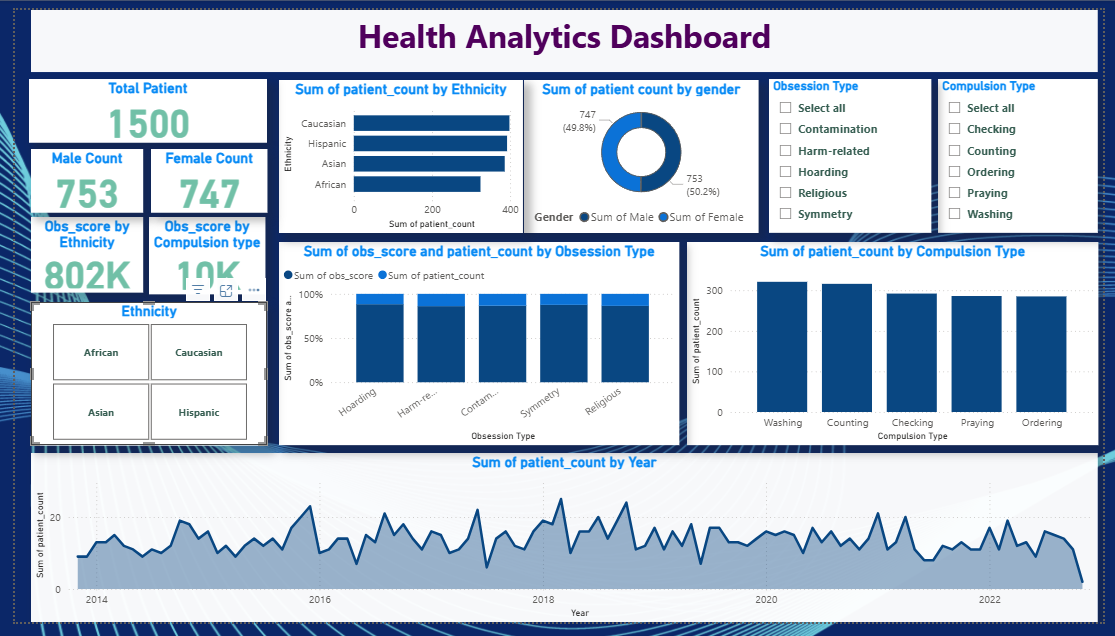

The page's visual inventory and layout, read from the dashboard file:
{"tool":"powerbi","page":{"name":"Page 1","canvas":[1280,720],"ordinal":0},"visuals":[{"type":"textbox","box":[19,0,1255,73],"z":0},{"type":"lineChart","title":"Sum of patient_count by Year","fields":{"Y":["Sum(diagnosis mom.patient_count)"],"Category":["diagnosis mom.month.Variation.Date Hierarchy.Year","diagnosis mom.month.Variation.Date Hierarchy.Quarter","diagnosis mom.month.Variation.Date Hierarchy.Month","diagnosis mom.month.Variation.Date Hierarchy.Day"]},"box":[19,521,1255,199],"z":1000},{"type":"donutChart","title":"Sum of patient count by gender","fields":{"Y":["Sum(gender.Male)","Sum(gender.Female)"]},"box":[599,82,276,180],"z":2000},{"type":"columnChart","fields":{"Y":["Sum(compulsion_type.patient_count)"],"Category":["compulsion_type.Compulsion Type"]},"box":[790,273,484,239],"z":3000},{"type":"hundredPercentStackedColumnChart","title":"Sum of obs_score and patient_count by Obsession Type","fields":{"Y":["Sum(obs_type.obs_score)","Sum(obs_type.patient_count)"],"Category":["obs_type.Obsession Type"]},"box":[310,273,471,239],"z":4000},{"type":"clusteredBarChart","fields":{"Category":["ethnicity.Ethnicity"],"Y":["Sum(ethnicity.patient_count)"]},"box":[310,82,287,180],"z":5000},{"type":"card","title":"Obs_score by Ethnicity","fields":{"Values":["Sum(ethnicity.obs_score)"]},"box":[19,244,132,89],"z":6000},{"type":"card","title":"Total Patient","fields":{"Values":["Sum(diagnosis mom.patient_count)"]},"box":[17,81,280,75],"z":7000},{"type":"card","title":"Obs_score by Compulsion type","fields":{"Values":["Sum(compulsion_type.obs_score)"]},"box":[158,244,137,91],"z":8000},{"type":"card","title":"Male Count","fields":{"Values":["Sum(gender.Male)"]},"box":[19,163,132,75],"z":9000},{"type":"card","title":"Female Count","fields":{"Values":["Sum(gender.Female)"]},"box":[160,163,137,75],"z":10000},{"type":"slicer","title":"Ethnicity","fields":{"Values":["ethnicity.Ethnicity"]},"box":[19,343,278,169],"z":11000},{"type":"slicer","title":"Compulsion Type","fields":{"Values":["compulsion_type.Compulsion Type"]},"box":[1086,81,188,181],"z":12000},{"type":"slicer","title":"Obsession Type","fields":{"Values":["obs_type.Obsession Type"]},"box":[887,81,191,181],"z":13000}]}

Visuals, with their boxes in screenshot pixels (x1, y1, x2, y2), scaled from the page's 1280x720 canvas onto the 1115x636 screenshot:
textbox: x1=17, y1=0, x2=1110, y2=64
"Sum of patient_count by Year" lineChart: x1=17, y1=460, x2=1110, y2=635
"Sum of patient count by gender" donutChart: x1=522, y1=72, x2=762, y2=231
columnChart - Sum(compulsion_type.patient_count) x compulsion_type.Compulsion Type: x1=688, y1=241, x2=1110, y2=452
"Sum of obs_score and patient_count by Obsession Type" hundredPercentStackedColumnChart: x1=270, y1=241, x2=680, y2=452
clusteredBarChart - ethnicity.Ethnicity x Sum(ethnicity.patient_count): x1=270, y1=72, x2=520, y2=231
"Obs_score by Ethnicity" card: x1=17, y1=216, x2=132, y2=294
"Total Patient" card: x1=15, y1=72, x2=259, y2=138
"Obs_score by Compulsion type" card: x1=138, y1=216, x2=257, y2=296
"Male Count" card: x1=17, y1=144, x2=132, y2=210
"Female Count" card: x1=139, y1=144, x2=259, y2=210
"Ethnicity" slicer: x1=17, y1=303, x2=259, y2=452
"Compulsion Type" slicer: x1=946, y1=72, x2=1110, y2=231
"Obsession Type" slicer: x1=773, y1=72, x2=939, y2=231
